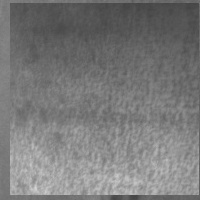inclusion: (94, 93, 140, 199), (92, 101, 112, 165), (119, 74, 139, 115)
pitted_surface: (10, 3, 199, 195)
